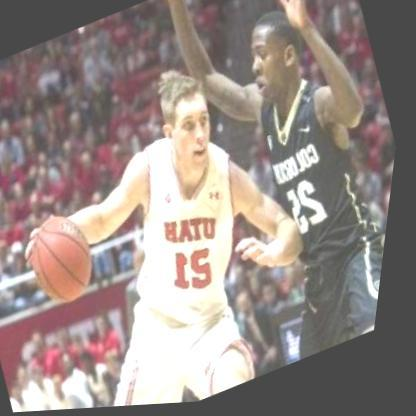basketball: (13, 197, 124, 320)
